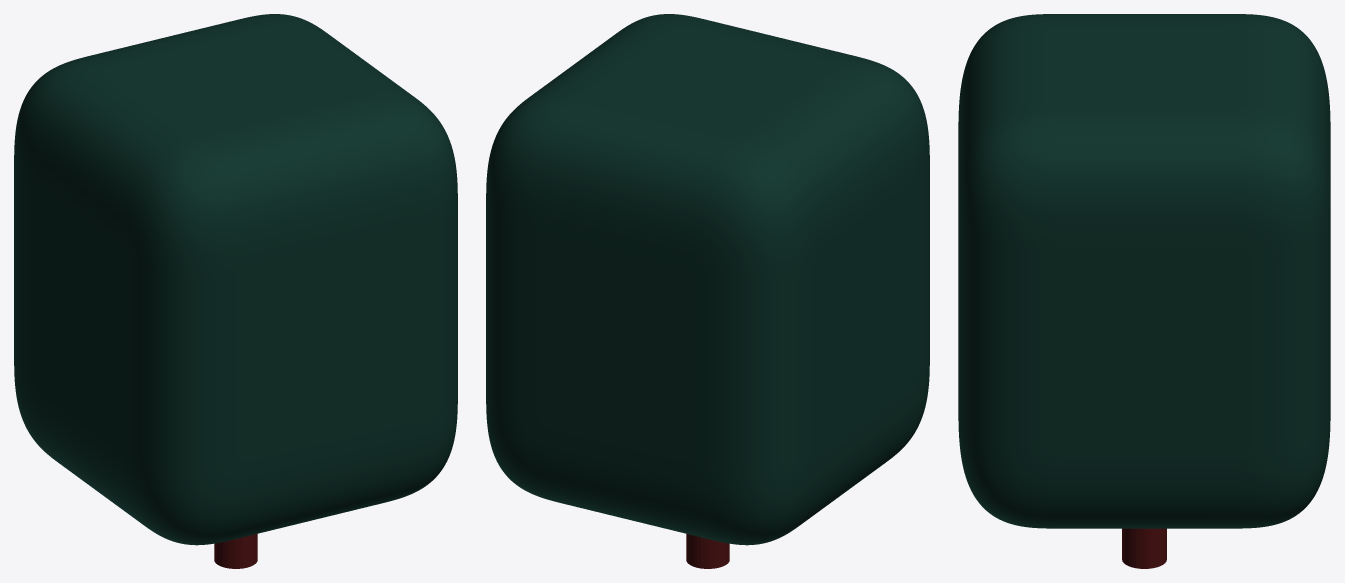
The model's file is ArbustoO.fbx.
3 views of the same model, side by side, from view 1: azimuth 30°, elevation 25°; view 2: azimuth 150°, elevation 25°; view 3: azimuth 270°, elevation 25° (orthographic). The views are drawn at different scales.
Parts seen in each view (by area): view 1: ArbustoOscuro; view 2: ArbustoOscuro; view 3: ArbustoOscuro.
Part boxes in pixels (bbox=[...]): ArbustoOscuro: bbox=[14, 14, 457, 568]; ArbustoOscuro: bbox=[486, 14, 929, 568]; ArbustoOscuro: bbox=[958, 14, 1330, 568].
Size of the model in its own units: 267 by 390 by 267.
1 material, 1 textured.
